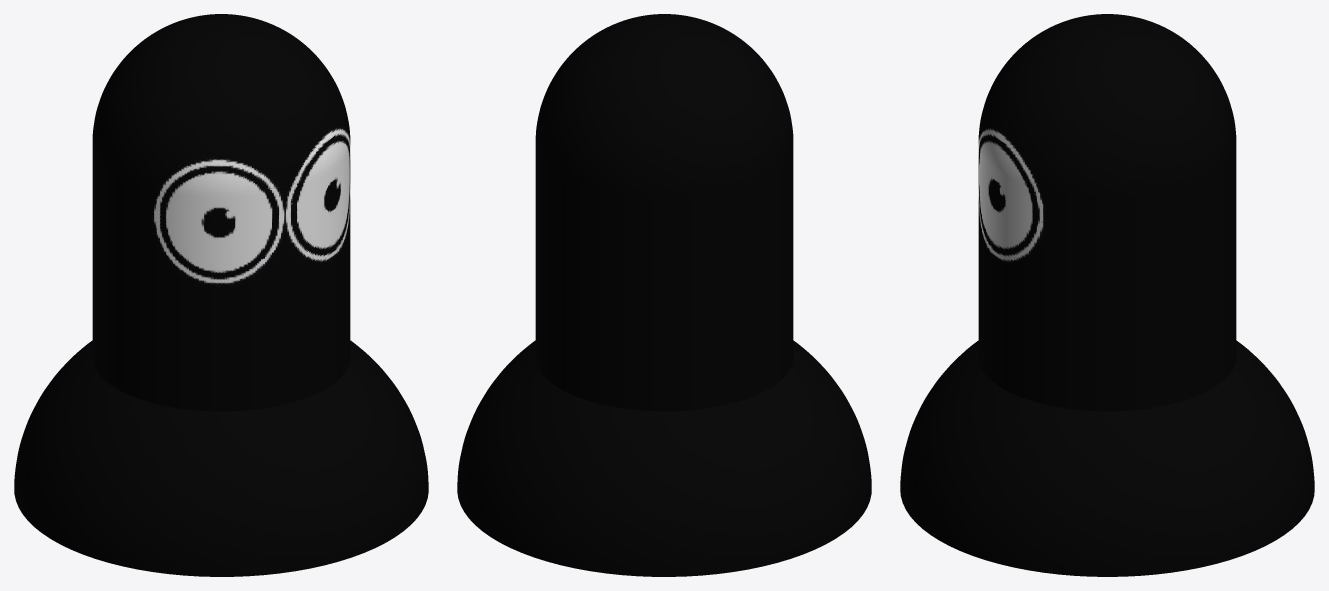
File: mole.fbx
3 views of the same model, side by side, from view 1: azimuth 30°, elevation 25°; view 2: azimuth 150°, elevation 25°; view 3: azimuth 270°, elevation 25° (orthographic).
Parts seen in each view (by area): view 1: node_id32, node_id30; view 2: node_id32, node_id30; view 3: node_id32, node_id30.
Boxes of the visible parts, <box> form: node_id32: <box>92,14,350,411</box>; node_id30: <box>14,340,428,576</box>; node_id32: <box>535,14,793,411</box>; node_id30: <box>457,340,871,576</box>; node_id32: <box>978,14,1236,411</box>; node_id30: <box>900,340,1314,576</box>.
Bounding box in the file's own units: 0.4153 × 0.512 × 0.4153.
2 materials, 2 textured.
